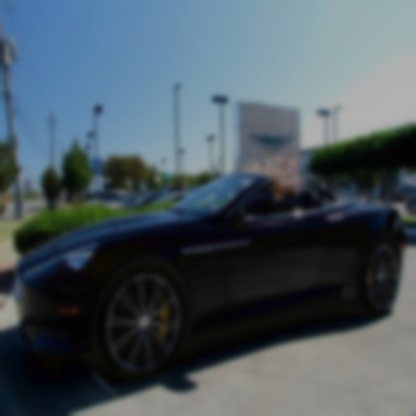Vehicle: (13, 172, 408, 382)
